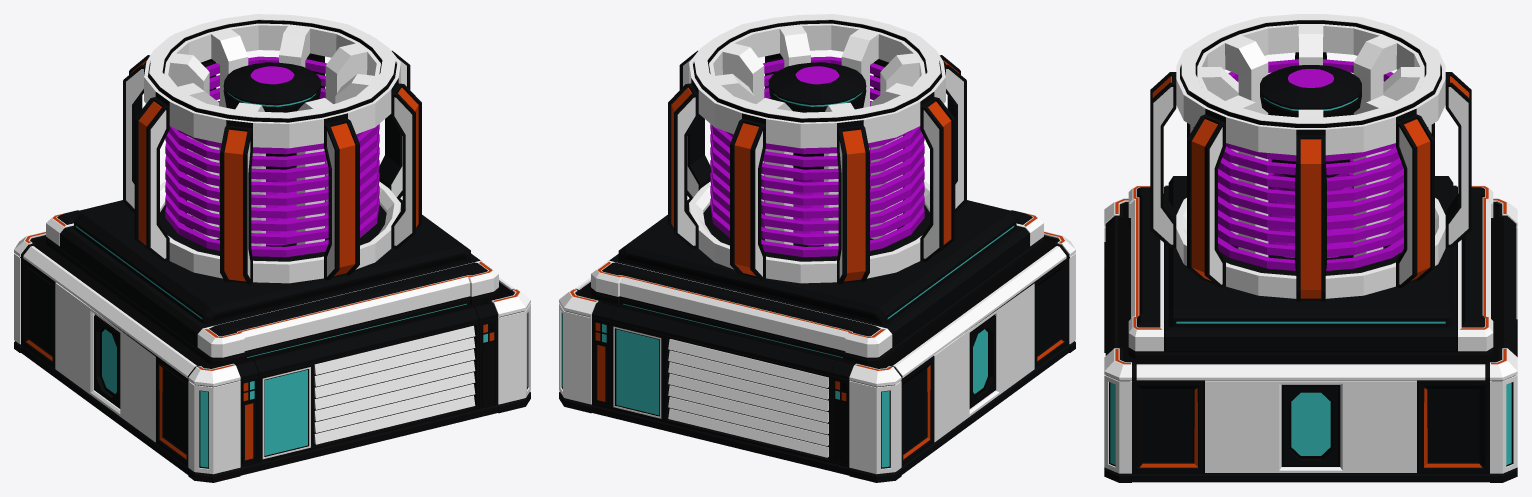
The model's file is SM_Fusion_T3.obj.
3 views of the same model, side by side, from view 1: azimuth 30°, elevation 25°; view 2: azimuth 150°, elevation 25°; view 3: azimuth 270°, elevation 25° (orthographic). The views are drawn at different scales.
Parts seen in each view (by area): view 1: SM_Fusion_T3; view 2: SM_Fusion_T3; view 3: SM_Fusion_T3.
Part boxes in pixels (box(x1,y1,x2,y2)): SM_Fusion_T3: box(14, 14, 530, 482); SM_Fusion_T3: box(559, 14, 1075, 482); SM_Fusion_T3: box(1104, 14, 1517, 482).
Size of the model in its own units: 3 by 2.62 by 3.
